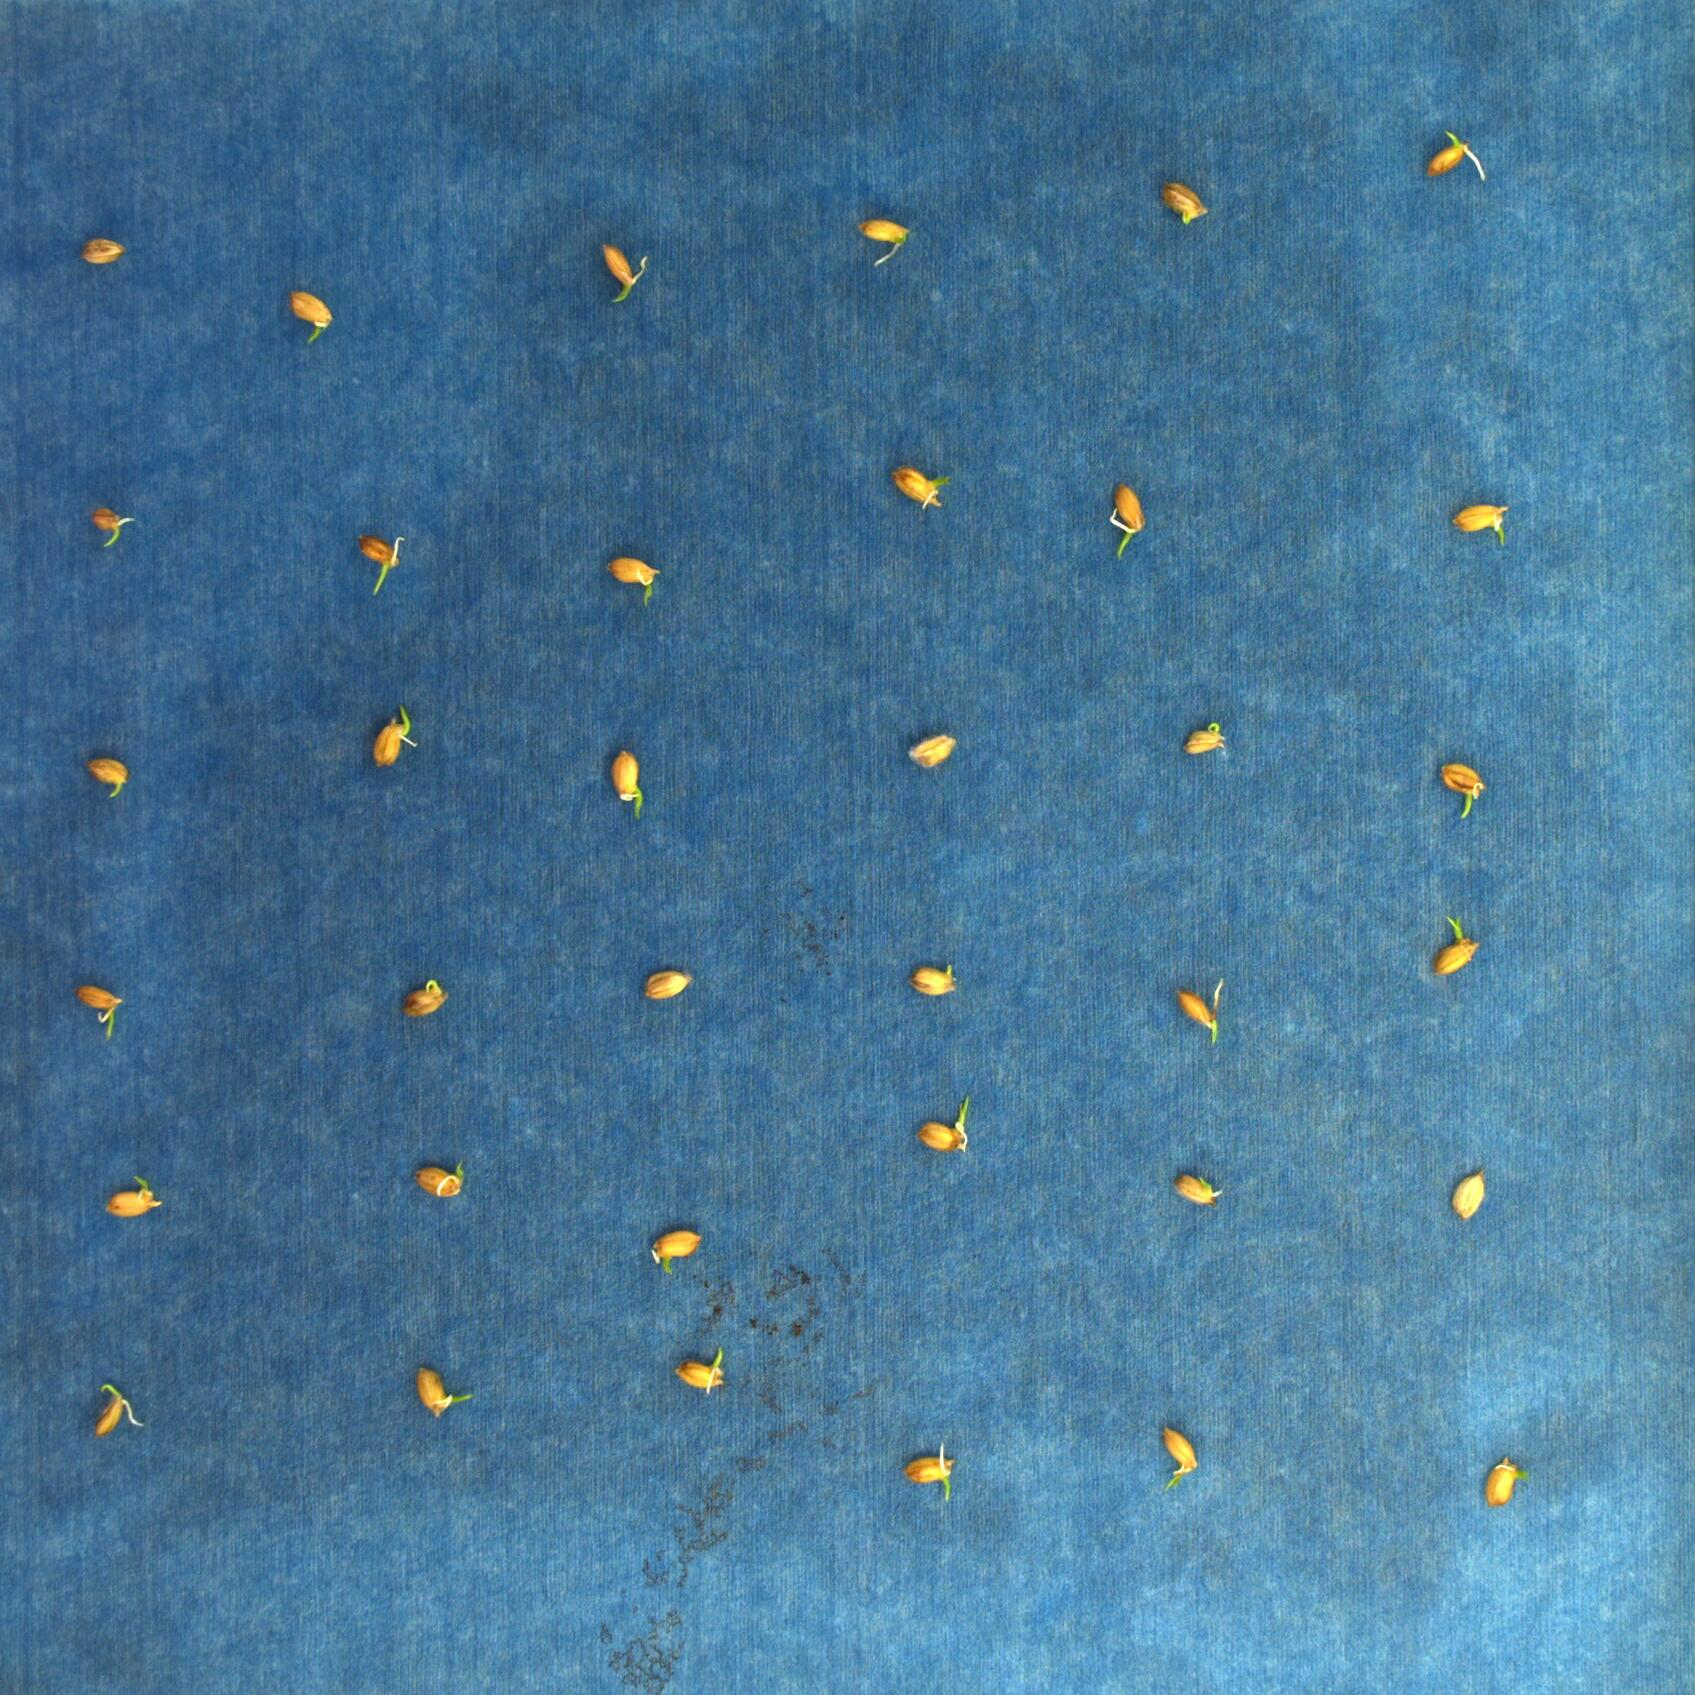not sprout: (1428, 130, 1485, 186), (855, 216, 914, 267), (1451, 495, 1509, 545), (1481, 1454, 1532, 1509), (632, 962, 692, 1004), (287, 292, 334, 343), (906, 958, 959, 993), (87, 754, 133, 795), (1181, 717, 1228, 757), (1159, 182, 1211, 217), (400, 979, 449, 1015), (908, 733, 955, 768), (68, 237, 129, 264)
sprout: (1426, 914, 1485, 979), (348, 529, 407, 593), (88, 1380, 147, 1442), (414, 1367, 475, 1423), (601, 244, 653, 307), (646, 1220, 703, 1277), (903, 1440, 958, 1501), (1177, 983, 1225, 1046), (95, 1173, 163, 1217), (1437, 761, 1485, 821), (1108, 477, 1141, 563), (886, 467, 948, 512), (373, 708, 418, 770), (70, 983, 120, 1037), (917, 1101, 973, 1149), (1156, 1426, 1201, 1485), (87, 498, 137, 551), (613, 748, 650, 816), (607, 557, 661, 604), (416, 1158, 469, 1201), (678, 1346, 723, 1395), (1175, 1167, 1228, 1201), (1453, 1163, 1482, 1220)
